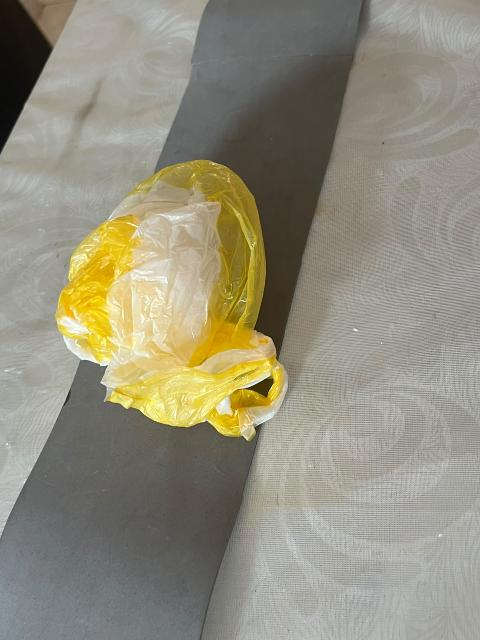LDPE: (23, 100, 357, 523)
